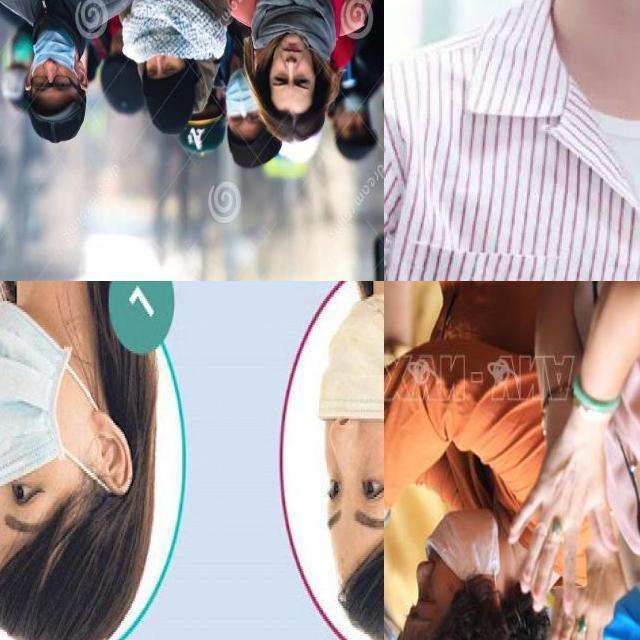hairnet: (413, 510, 498, 594), (28, 29, 79, 77)
